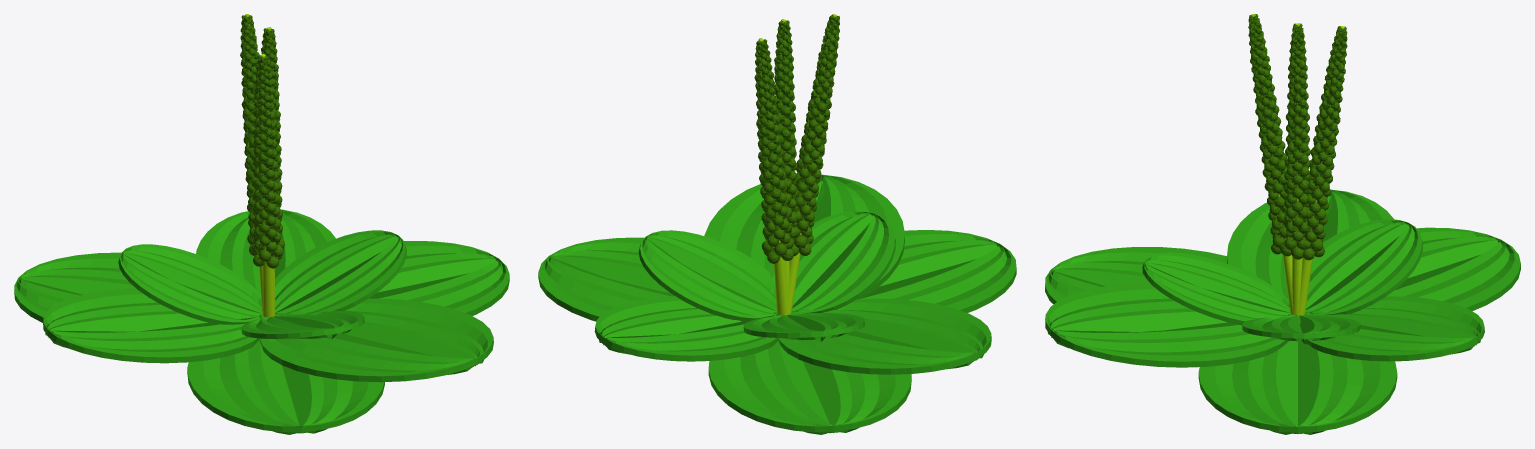
File: plantain_FINALIHOPE.fbx
3 renders of one model, left to right at view 1: azimuth 30°, elevation 25°; view 2: azimuth 150°, elevation 25°; view 3: azimuth 270°, elevation 25°, orthographic. The views are drawn at different scales.
Parts seen in each view (by area): view 1: plantain_model.001; view 2: plantain_model.001; view 3: plantain_model.001.
Part boxes in pixels (x1,y1,x2,y2): plantain_model.001: [14, 14, 509, 434]; plantain_model.001: [538, 14, 1016, 434]; plantain_model.001: [1045, 14, 1520, 434].
Bounding box in the file's own units: 39.37 × 25.95 × 36.9.
